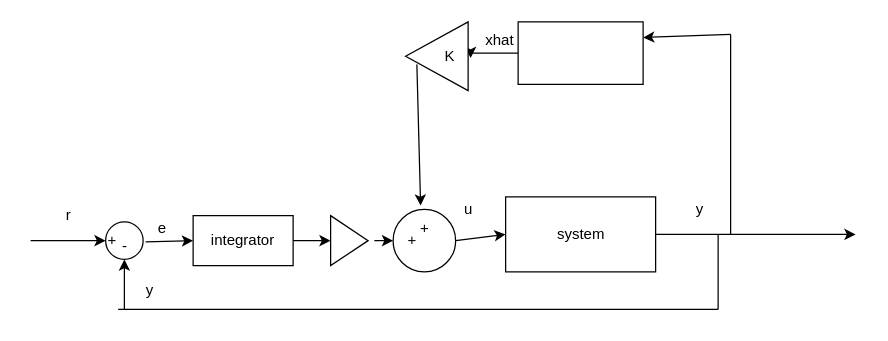
Image size: 888x341. Some labels were removed from this diagram. The box of each missing label's shape, as (x1, y1, x2, y2) in pixels:
K_e: (329, 214, 368, 266)
observer: (517, 21, 643, 84)
